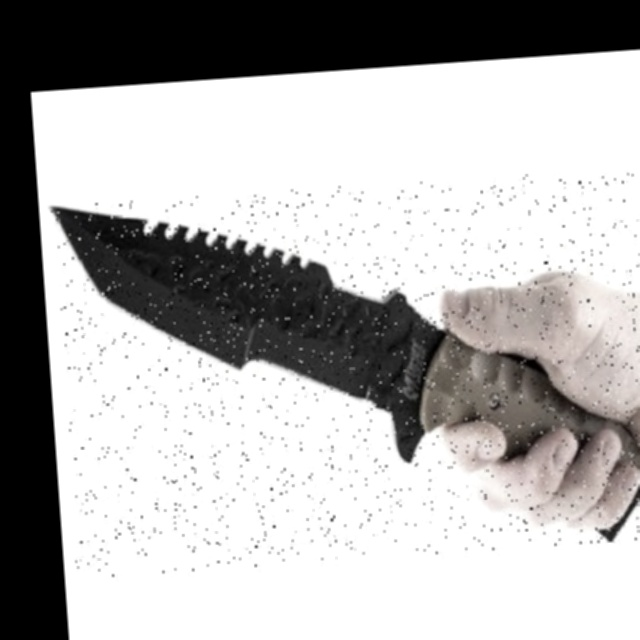Sharp-Object: (51, 167, 640, 579)
